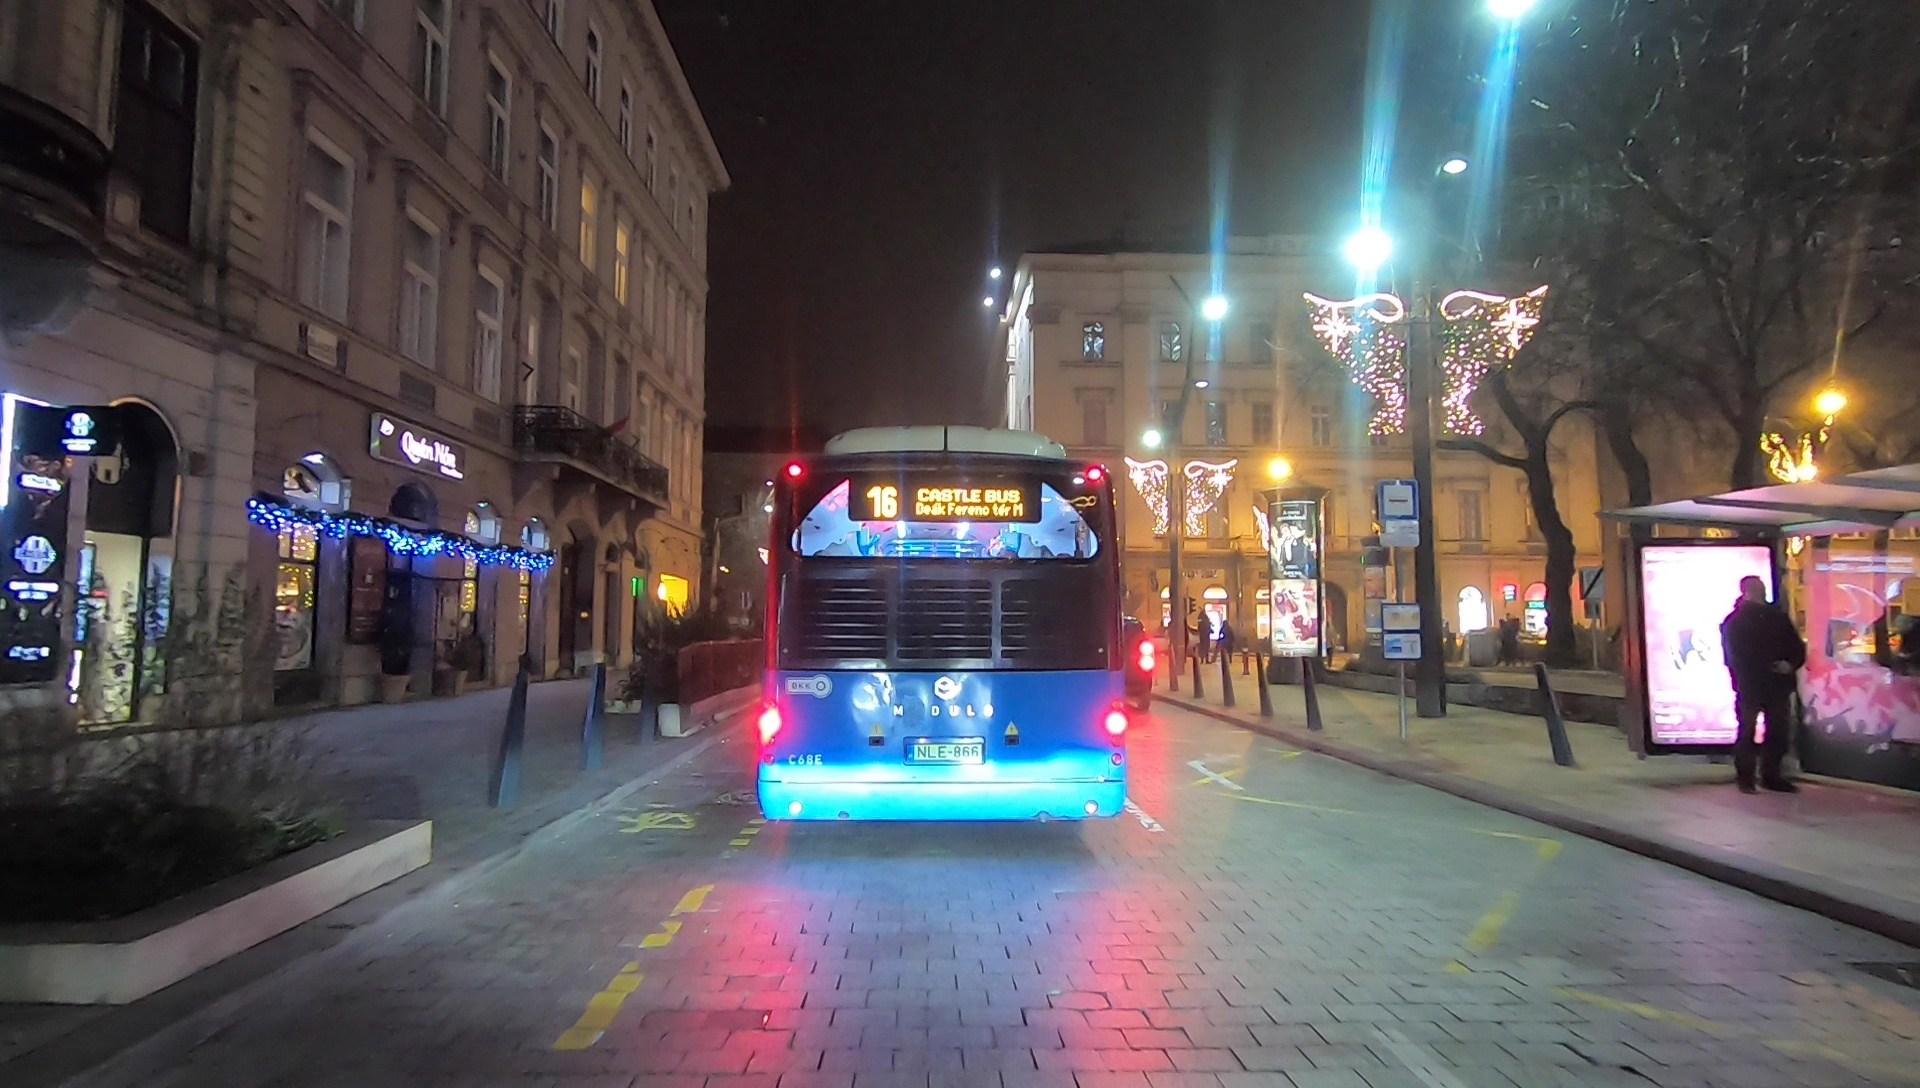person: (1723, 576, 1802, 795)
